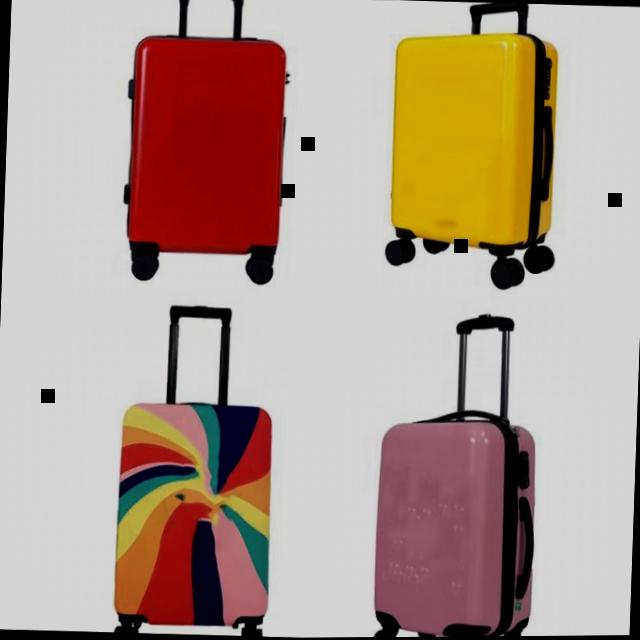luggage: (382, 23, 562, 257), (116, 25, 294, 260), (105, 395, 278, 636), (365, 403, 539, 638)
